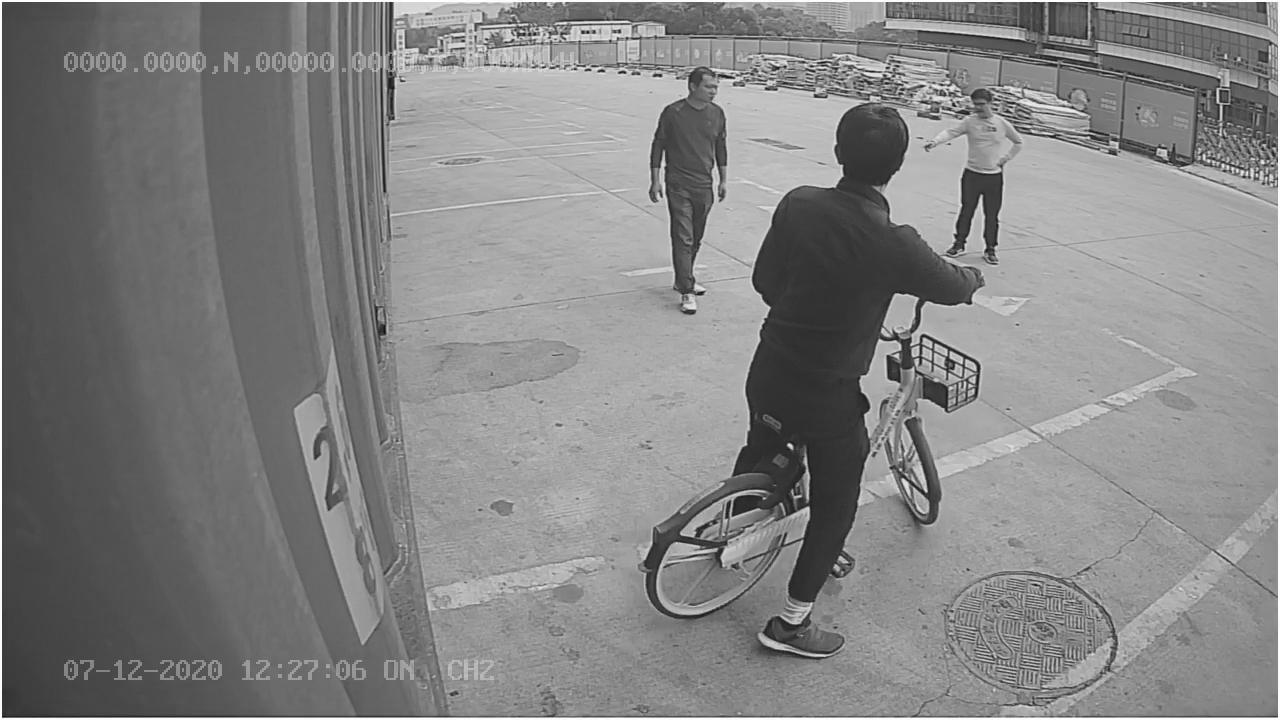person: (644, 64, 736, 317)
